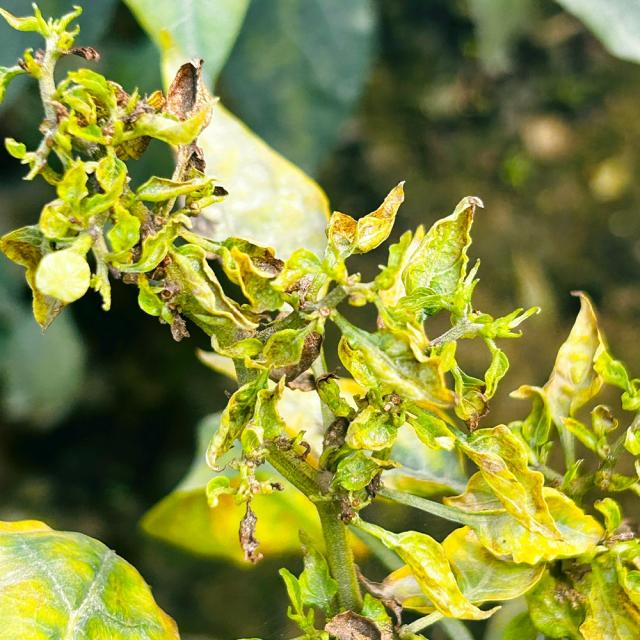Chilli_Leaf_Curl: (1, 2, 638, 637), (1, 2, 230, 336), (0, 517, 180, 638), (33, 247, 92, 305)
